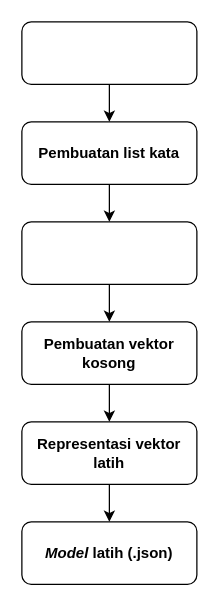
The diagram is 219 pixels wide and 606 high, and some of its shapes have lost their labels. The centre of each missing label's shape, as x and y in pixels:
"Pencarian fitur kata" belongs at [109,252].
"Seleksi Data Latih" belongs at [109,52].
